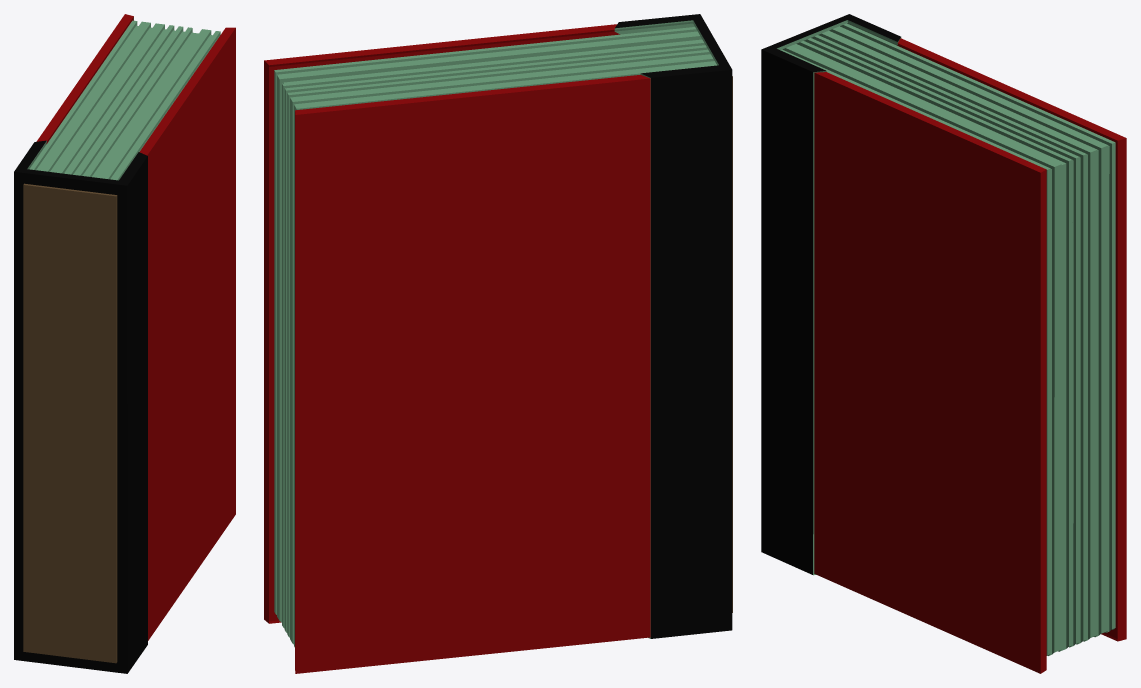
Rendered from ThirdShelfBook5.fbx.
The picture shows the model from 3 angles, left to right: view 1: azimuth 30°, elevation 25°; view 2: azimuth 150°, elevation 25°; view 3: azimuth 270°, elevation 25°; orthographic projection. The views are drawn at different scales.
Parts seen in each view (by area): view 1: Book.007; view 2: Book.007; view 3: Book.007.
Part boxes in pixels (x1,y1,x2,y2): Book.007: (14, 14, 235, 673); Book.007: (264, 14, 732, 673); Book.007: (761, 14, 1126, 673).
Bounding box in the file's own units: 118 × 175 × 115.
